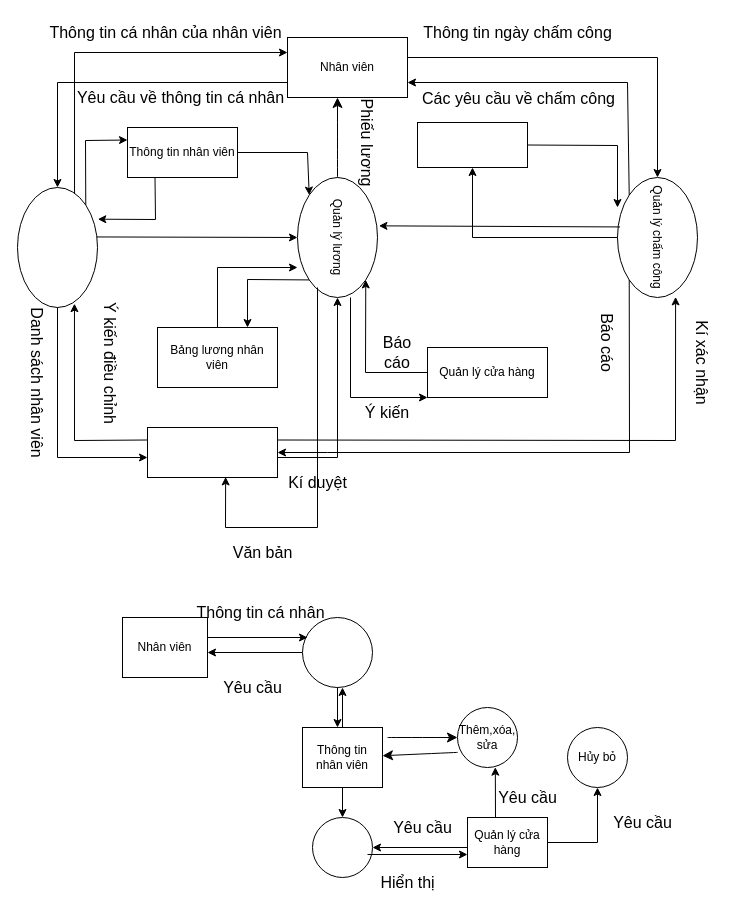
This 735x914 diagram has some shape labels left out. Each missing label, with the centre of its shape:
"Bảng theo dõi chấm công" goes at pixel 472 145.
"Cán sự cấp cao" goes at pixel 212 452.
"Cập nhật thông tin nhân viên" goes at pixel 337 652.
"Quản lý thông tin nhân viên" goes at pixel 57 247.
"Xem thông tin" goes at pixel 342 847.
